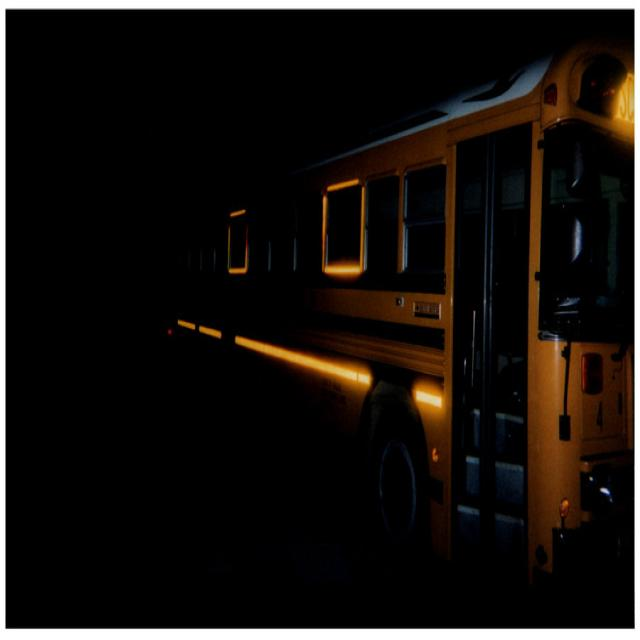Bus: (128, 59, 640, 609)
